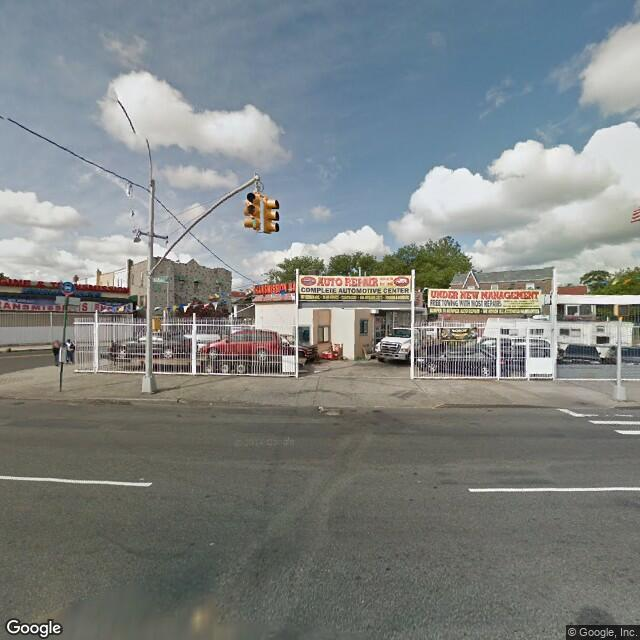litter: (315, 404, 327, 413), (136, 475, 144, 480), (209, 540, 213, 546)
